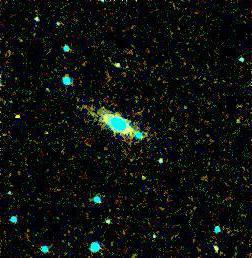star: (3, 101, 33, 131)
